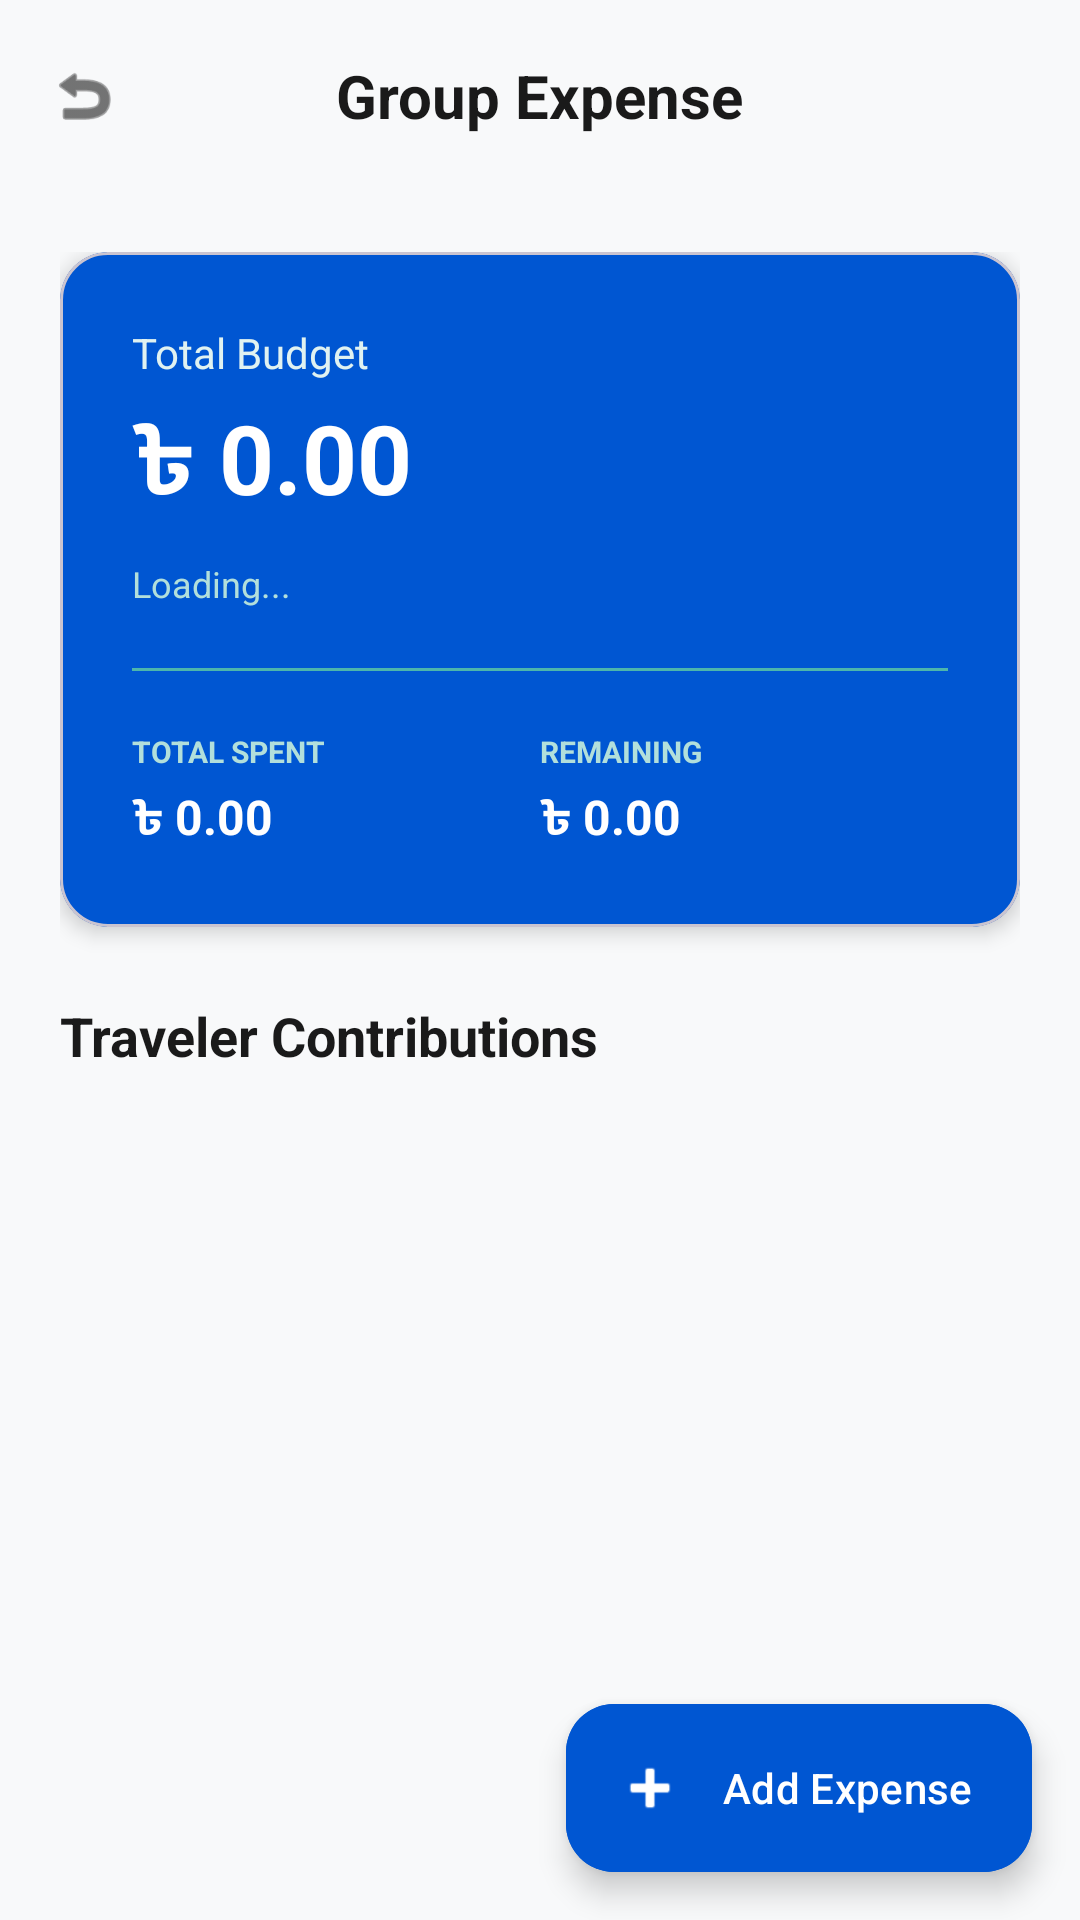

Where icons sit on this 1080px×1920px app screen, as [x1=x1, y1=y1, x2=x2, y2=y2]:
revert: [x1=59, y1=73, x2=111, y2=120]
